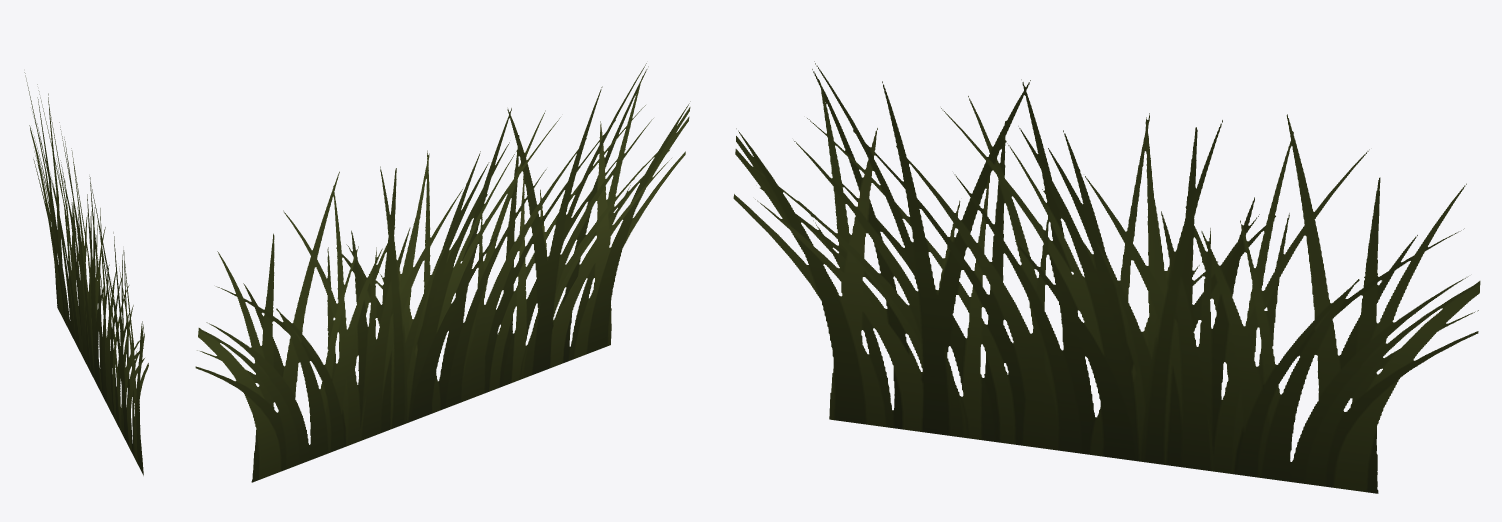
File: alpine_grass_1_burnt3.glb
The picture shows the model from 3 angles, left to right: view 1: azimuth 30°, elevation 25°; view 2: azimuth 150°, elevation 25°; view 3: azimuth 270°, elevation 25°; orthographic projection. The views are drawn at different scales.
Visible parts, largest first — view 1: alpine_grass_1_burnt3; view 2: alpine_grass_1_burnt3; view 3: alpine_grass_1_burnt3.
Boxes of the visible parts, x1,y1,x2,y2 form: alpine_grass_1_burnt3: (24, 72, 148, 475); alpine_grass_1_burnt3: (195, 63, 690, 482); alpine_grass_1_burnt3: (733, 61, 1480, 493).
Size of the model in its own units: 0.1893 by 0.2835 by 0.5177.
1 material, 1 textured.
